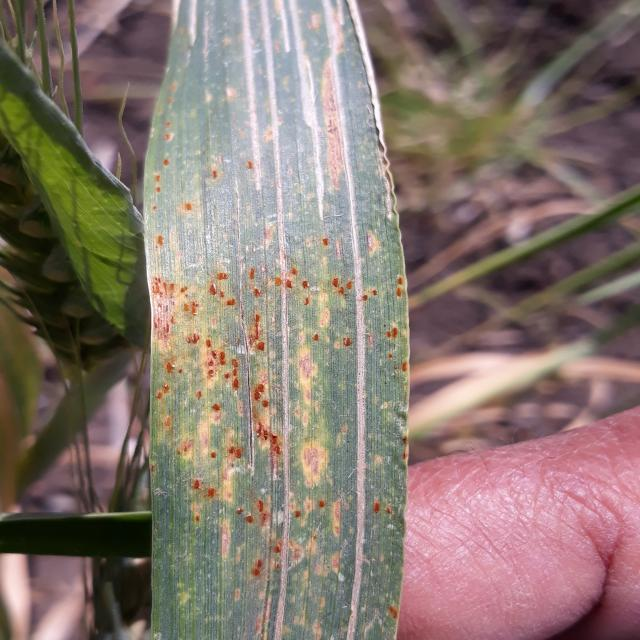black_stem_rust: (122, 0, 428, 640)
